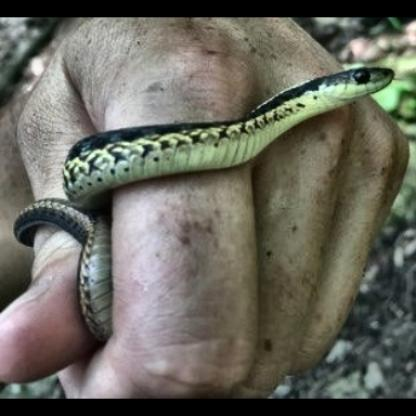Snake: (13, 64, 409, 340)
